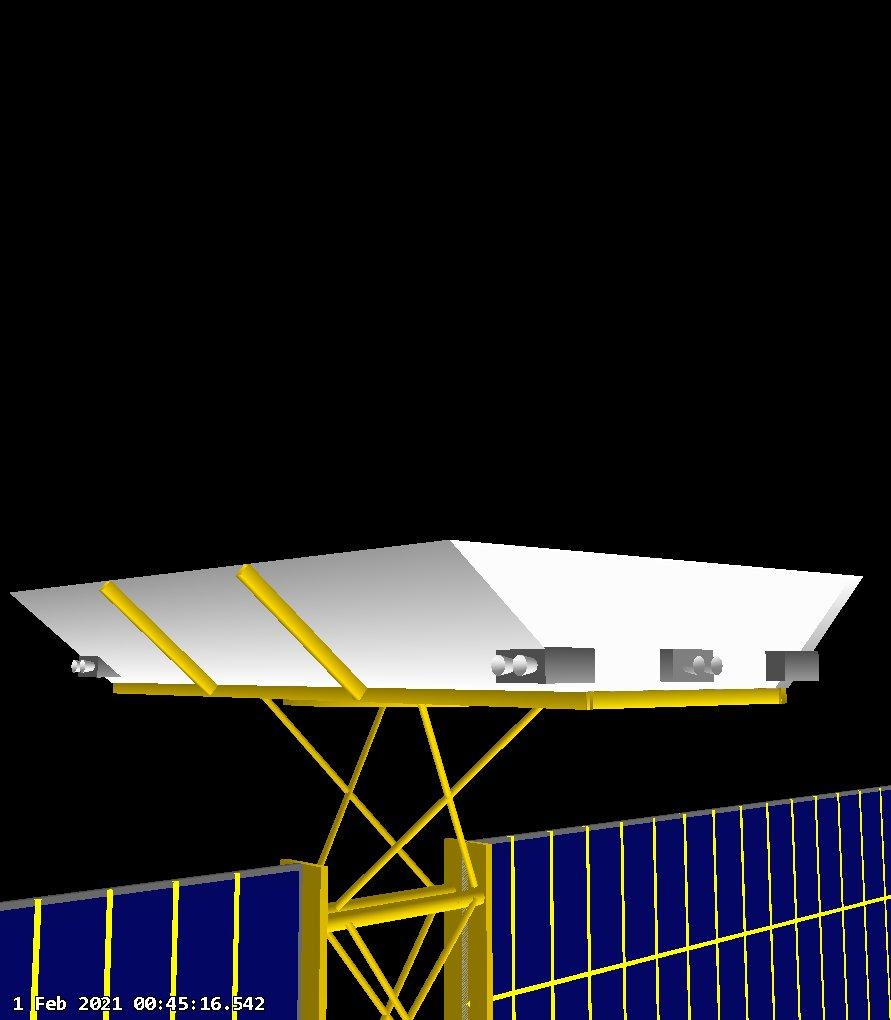body: (8, 538, 865, 714)
solar: (444, 782, 891, 1020), (0, 857, 336, 1020)
thruster: (512, 654, 540, 677), (489, 653, 513, 677), (680, 656, 707, 677), (704, 656, 725, 677), (78, 658, 97, 675), (69, 658, 85, 673)
